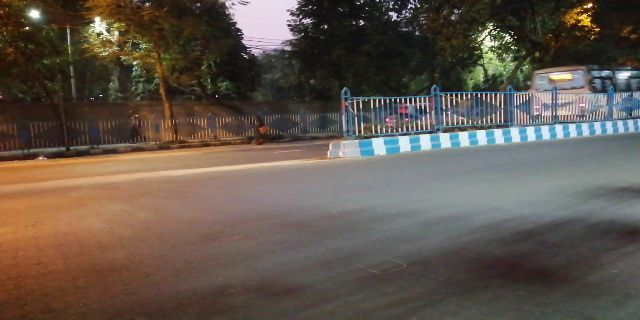Bus: (525, 65, 635, 118)
